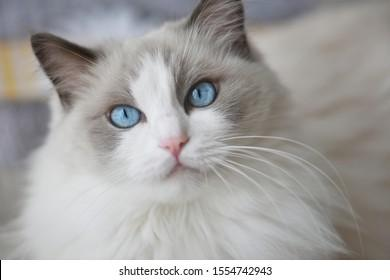ragdoll: (26, 1, 278, 242)
